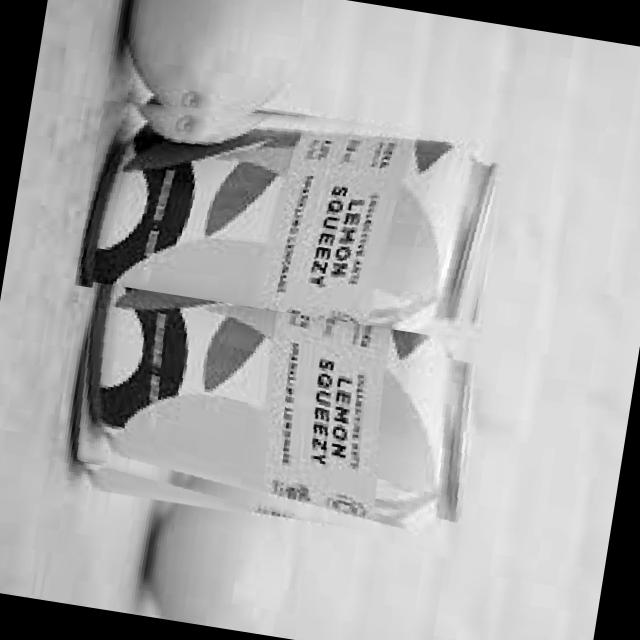Cans: (73, 70, 520, 350), (55, 282, 488, 562)
